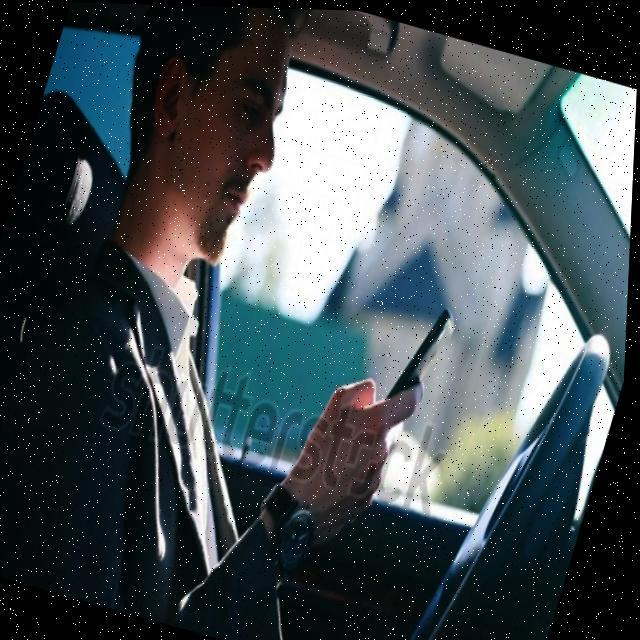PhoneCall: (383, 292, 462, 424)
